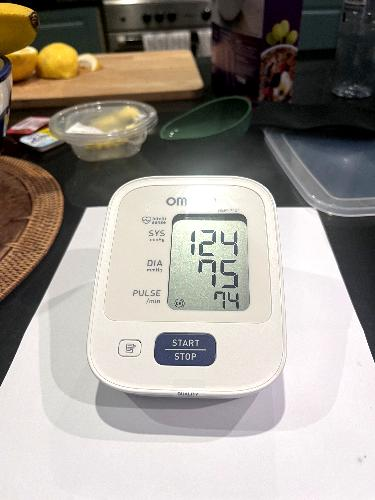bpm: (166, 210, 249, 312)
